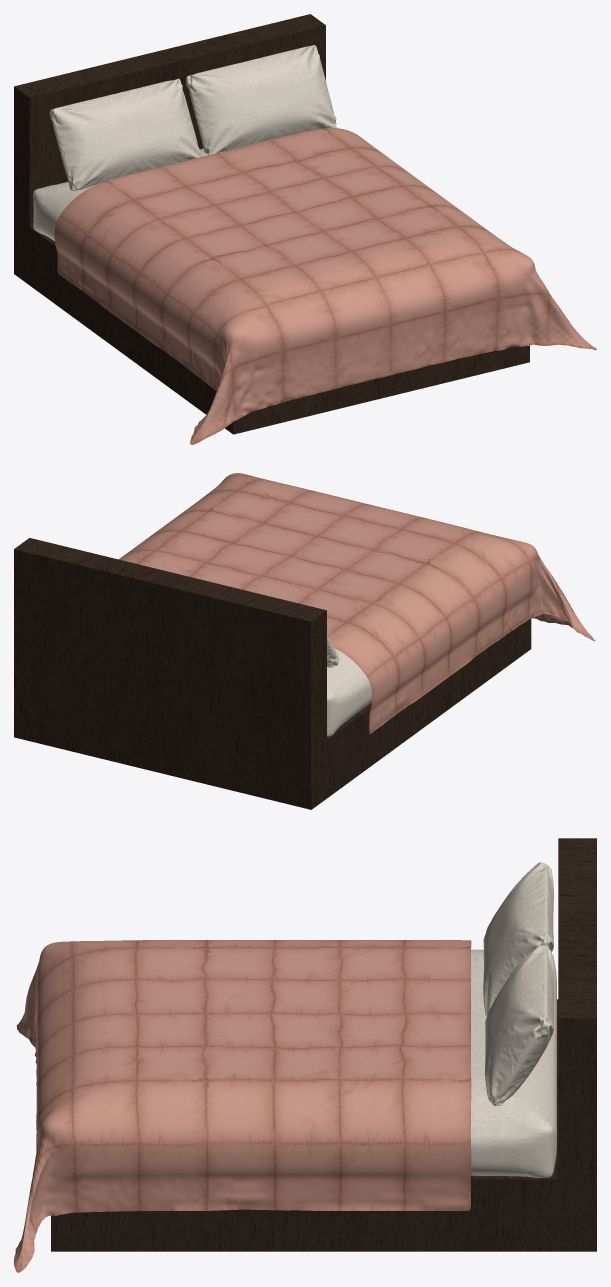
Rendered from letto.fbx.
3 renders of one model, top to bottom at view 1: azimuth 30°, elevation 25°; view 2: azimuth 150°, elevation 25°; view 3: azimuth 270°, elevation 25°, orthographic. The views are drawn at different scales.
Visible parts, largest first — view 1: coperta, letto, cuscini, lenzuola; view 2: letto, coperta, lenzuola; view 3: coperta, letto, cuscini, lenzuola.
Boxes of the visible parts, <box> form: coperta: <box>54,128,596,444</box>; letto: <box>14,14,529,434</box>; cuscini: <box>49,45,336,191</box>; lenzuola: <box>33,126,337,241</box>; letto: <box>14,538,531,809</box>; coperta: <box>119,473,595,733</box>; lenzuola: <box>327,648,371,736</box>; coperta: <box>14,940,471,1272</box>; letto: <box>51,838,596,1251</box>; cuscini: <box>483,862,553,1105</box>; lenzuola: <box>471,949,556,1177</box>.
Size of the model in its own units: 218 by 96.73 by 219.
